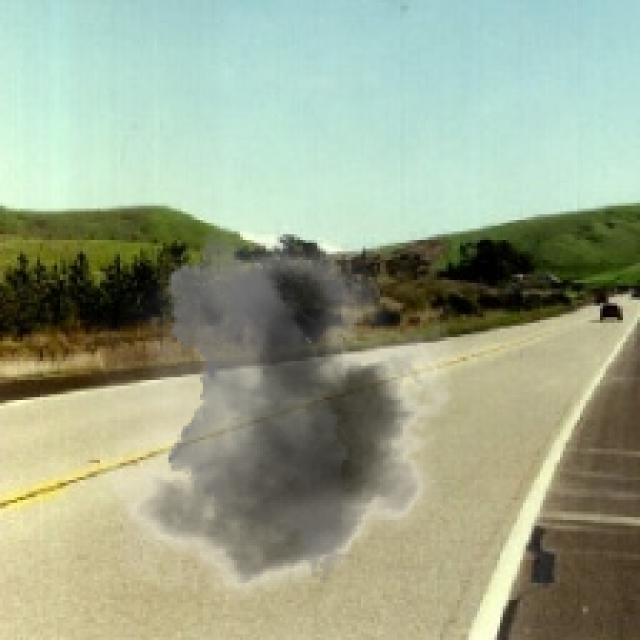Smoke: (57, 225, 474, 618)
